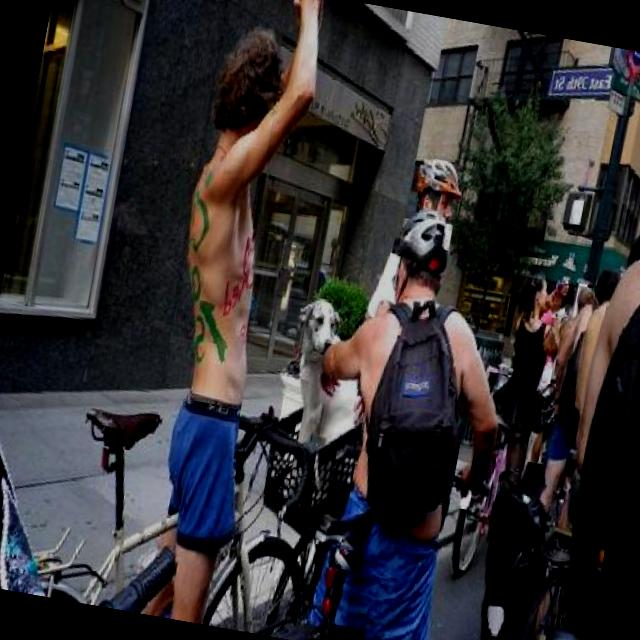Person: (119, 0, 335, 625), (276, 196, 536, 640), (519, 256, 623, 578), (560, 240, 640, 516), (478, 266, 574, 490), (364, 149, 469, 336), (525, 350, 566, 465)
